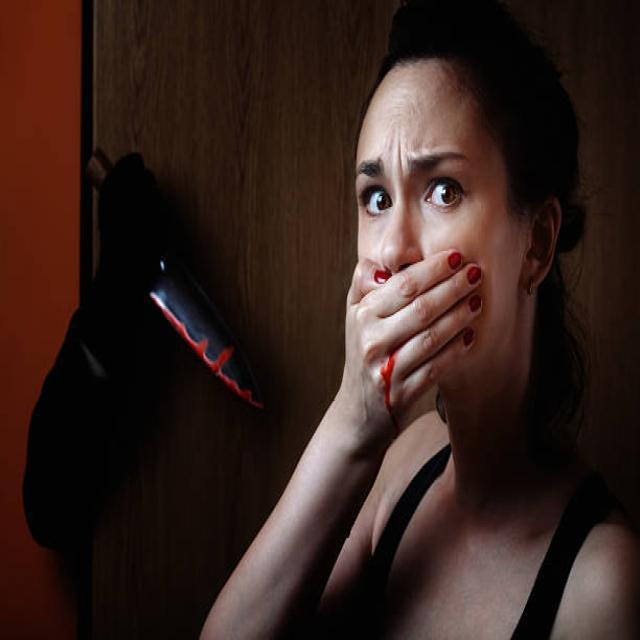faca: (68, 128, 272, 426)
